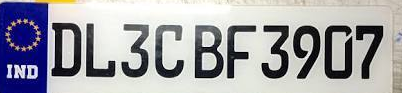0: (322, 24, 356, 80)
3: (119, 22, 151, 79), (261, 23, 290, 81)
7: (354, 21, 386, 82)
9: (292, 24, 322, 81)
B: (193, 24, 225, 80)
C: (153, 23, 186, 79)
D: (50, 21, 83, 79)
F: (225, 23, 258, 82)
L: (84, 21, 119, 78)
